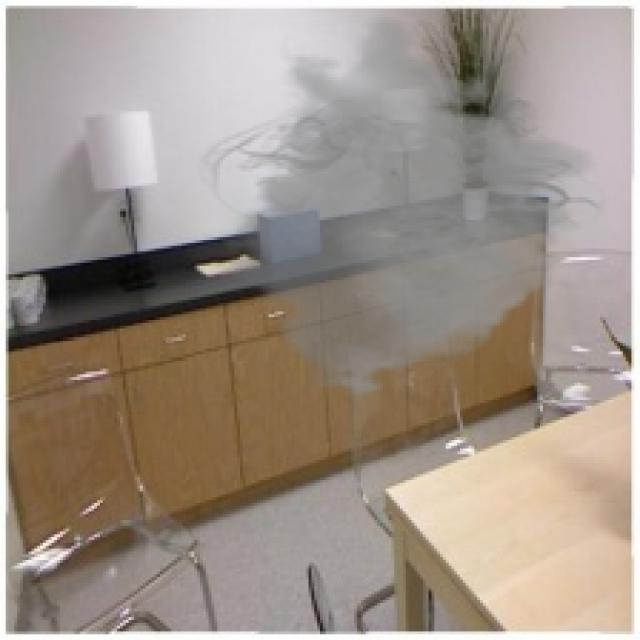Smoke: (192, 14, 608, 400)
